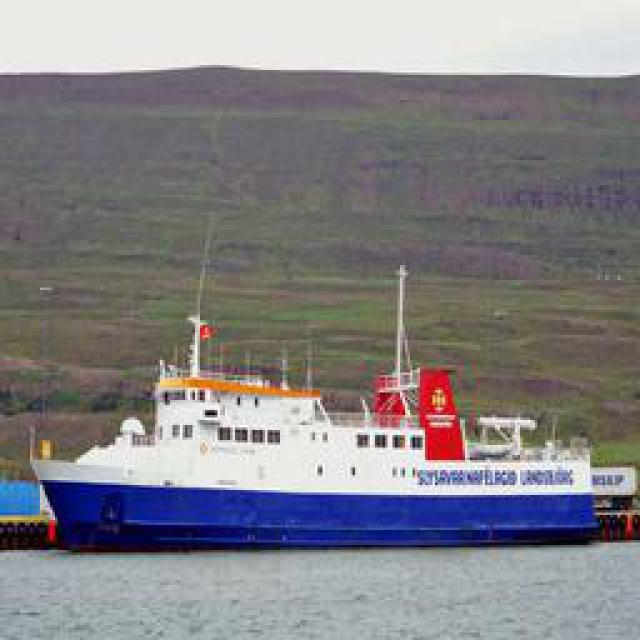Ship: (35, 251, 608, 549)
